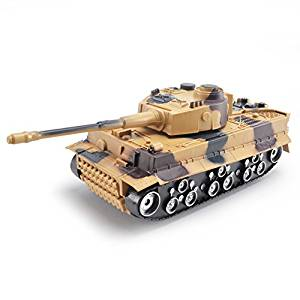Battle Tank: (6, 83, 293, 223)
